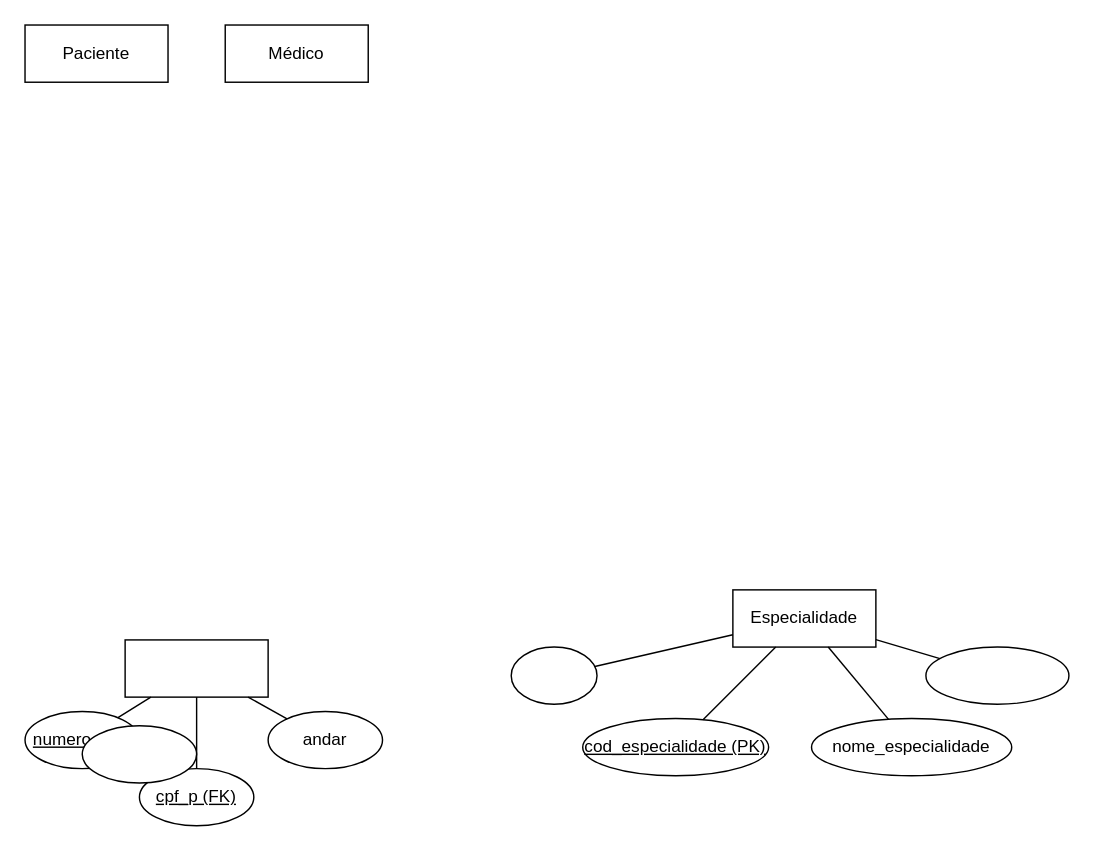
This 1094x851 diagram has some shape labels left out. The shapes that lost their labels are listed below. From the top down, each one's box as (x1, y1, x2, y2) in pixels, then its label:
(124, 638, 268, 697): Quarto
(510, 646, 597, 704): crm(FK)
(924, 646, 1069, 704): status_exerce
(81, 724, 197, 783): numero
